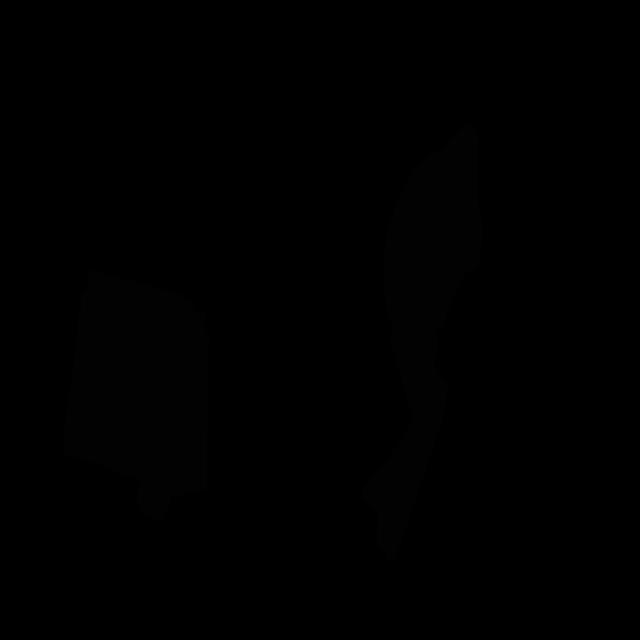cardboard: (63, 269, 210, 521), (383, 124, 482, 342), (362, 327, 448, 563)
